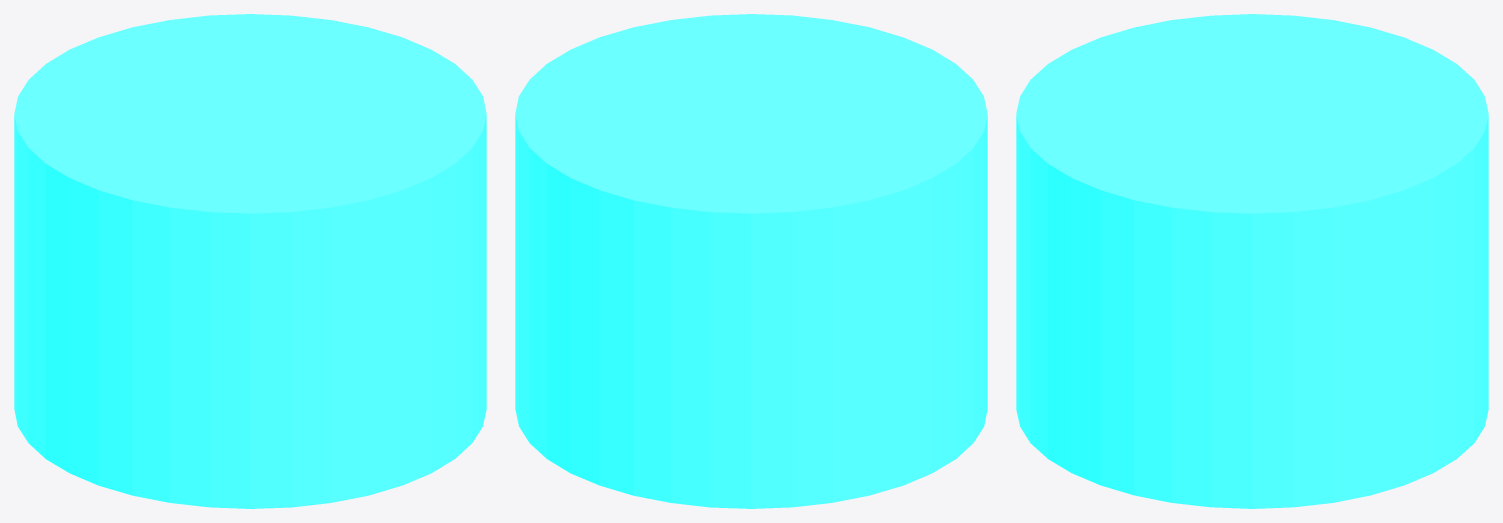
The model's file is workpiece-steel.glb.
3 renders of one model, left to right at view 1: azimuth 30°, elevation 25°; view 2: azimuth 150°, elevation 25°; view 3: azimuth 270°, elevation 25°, orthographic.
Parts seen in each view (by area): view 1: STWorker__go1080__mesh0; view 2: STWorker__go1080__mesh0; view 3: STWorker__go1080__mesh0.
Boxes of the visible parts, bbox=[...] form: STWorker__go1080__mesh0: bbox=[14, 14, 486, 508]; STWorker__go1080__mesh0: bbox=[515, 14, 987, 508]; STWorker__go1080__mesh0: bbox=[1016, 14, 1488, 508].
Bounding box in the file's own units: 0.029 × 0.02 × 0.029.
